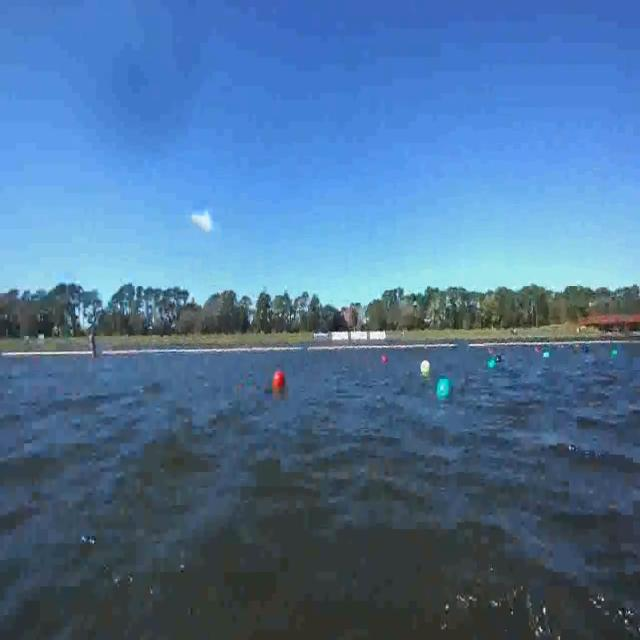green-buoy: (436, 375, 451, 396), (488, 358, 497, 370)
red-buoy: (274, 370, 286, 390)
yellow-buoy: (421, 359, 431, 373)
